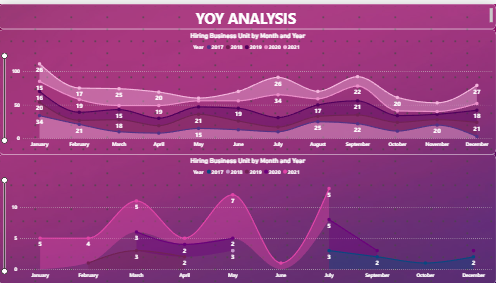

Layout of this report page (visuals, bound fields, positions):
{"tool":"powerbi","page":{"name":"YOY","canvas":[1280,720],"ordinal":1},"visuals":[{"type":"textbox","box":[0,0,1280,64],"z":0},{"type":"stackedAreaChart","title":"Hiring Business Unit by Month and Year","fields":{"Y":["Sum(EMPData.Business Unit)"],"Series":["EMPData.Hire Date.Variation.Date Hierarchy.Year"],"Category":["EMPData.Hire Date.Variation.Date Hierarchy.Month"]},"box":[0,64,1280,320],"z":1000},{"type":"stackedAreaChart","title":"Hiring Business Unit by Month and Year","fields":{"Y":["Sum(EMPData.Business Unit)"],"Category":["EMPData.Exit Date.Variation.Date Hierarchy.Month"],"Series":["EMPData.Exit Date.Variation.Date Hierarchy.Year"]},"box":[0,384,1280,336],"z":2000}]}

Visuals, with their boxes in screenshot pixels (x1, y1, x2, y2), scaled from the page's 1280x720 canvas onto the 496x283 screenshot:
textbox: bbox(0, 0, 495, 25)
"Hiring Business Unit by Month and Year" stackedAreaChart: bbox(0, 25, 495, 151)
"Hiring Business Unit by Month and Year" stackedAreaChart: bbox(0, 151, 495, 282)
